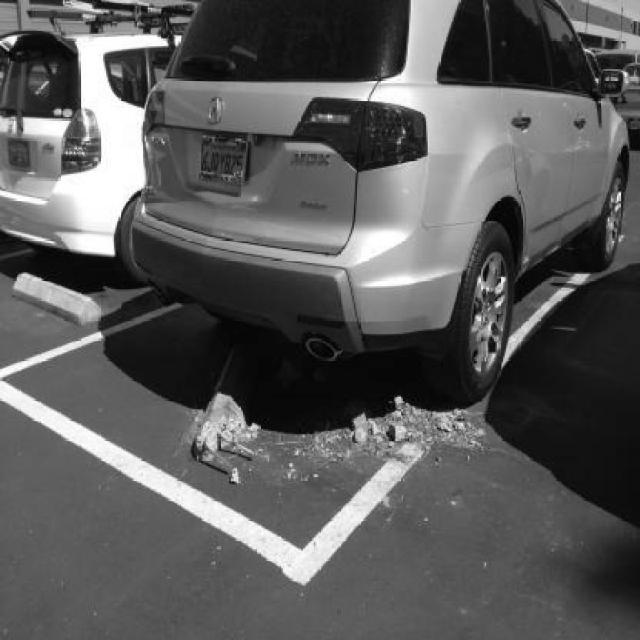car: (129, 5, 640, 363), (2, 29, 149, 262)
license-plate: (195, 128, 251, 198), (9, 140, 31, 169)
